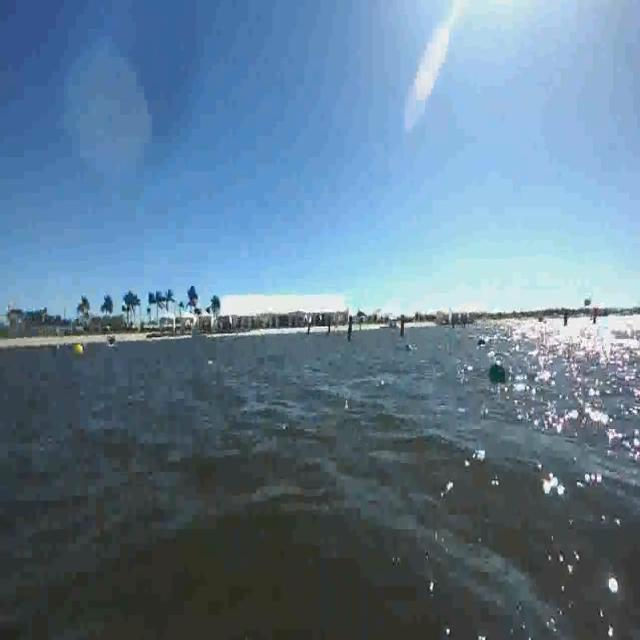green-buoy: (488, 356, 507, 384)
yellow-buoy: (74, 342, 84, 358)
